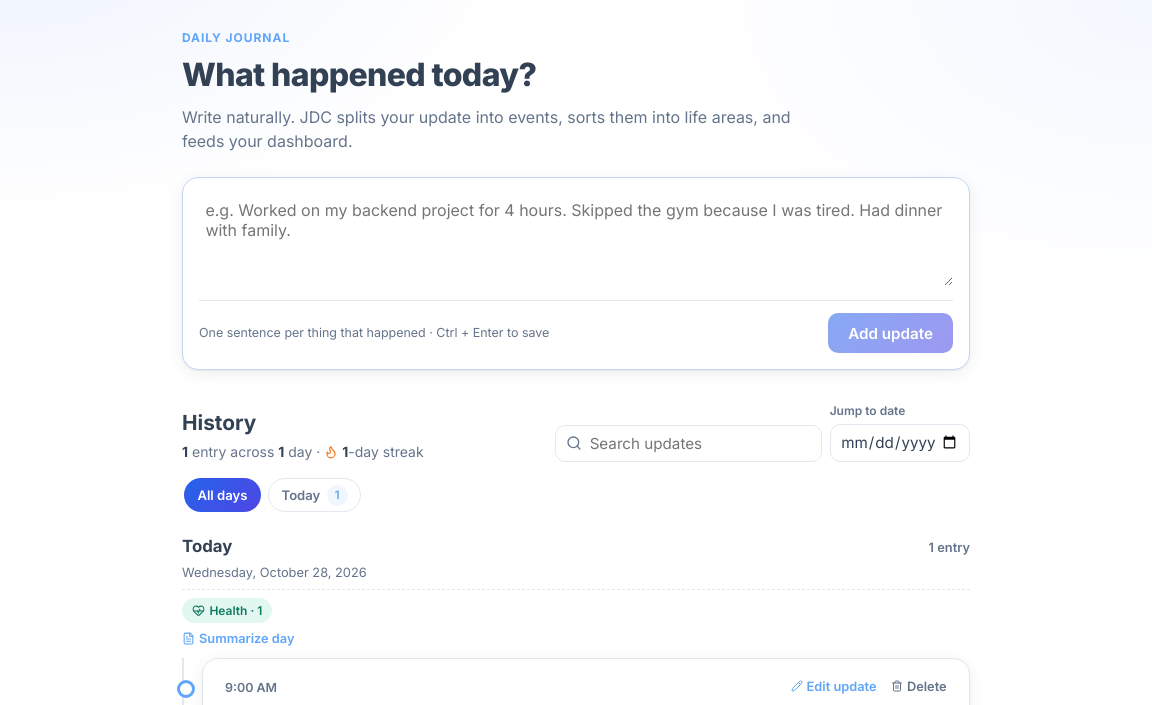
Editing updates › edits the whole update and shows the re-sorted statements
The width and height of the screenshot is (1152, 705).
Click the button "Edit update" at (834,686), box [791,679,877,694]
(page scrolled)
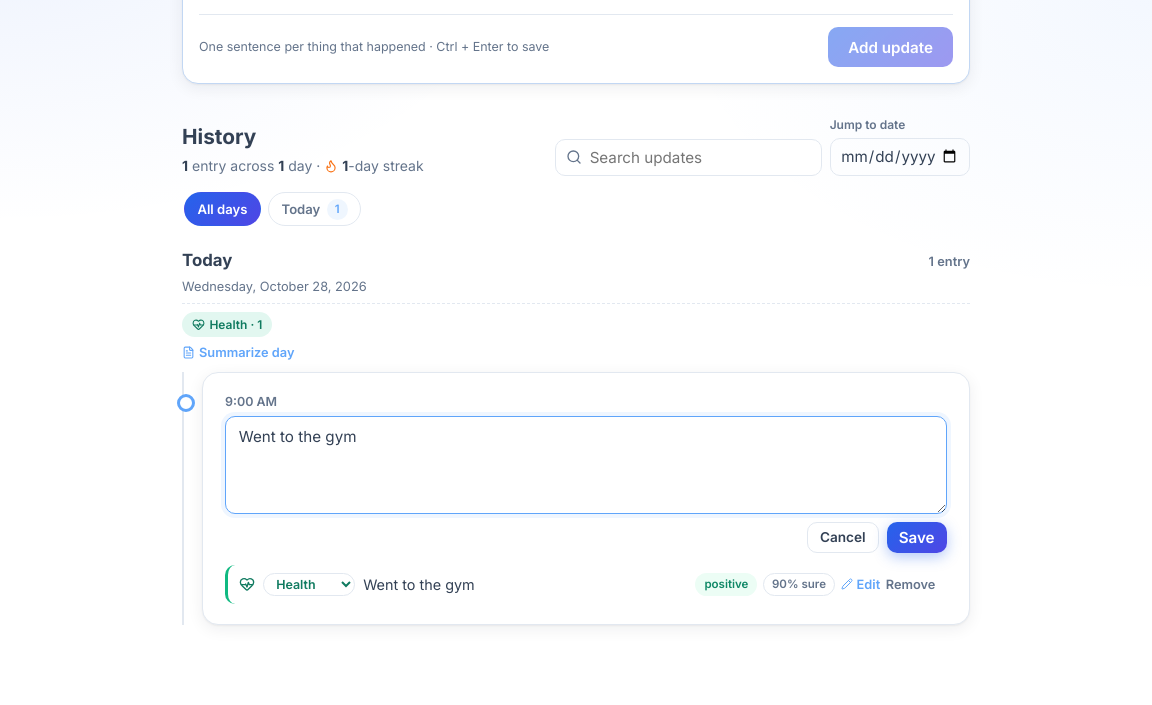
Replace the text in the text box named "Edit update" with "studyed python" at (586,465), box [225,416,947,514]
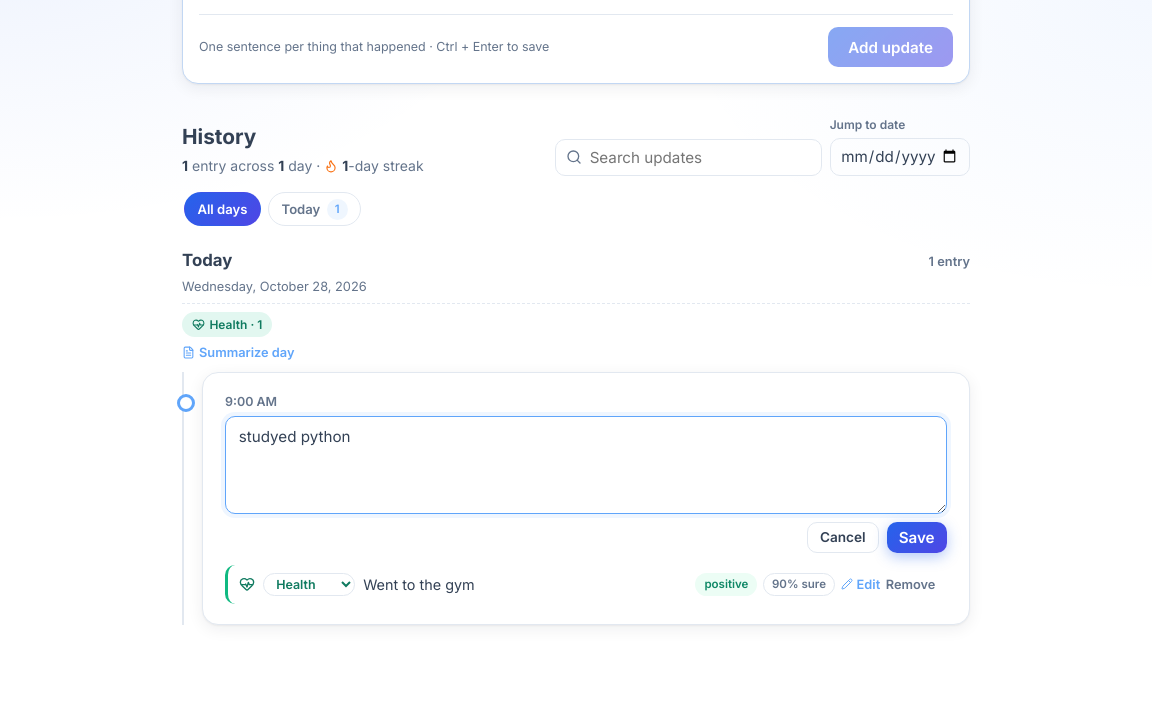
Click the button "Save" at (917,537), box [887,522,947,552]
(page scrolled)
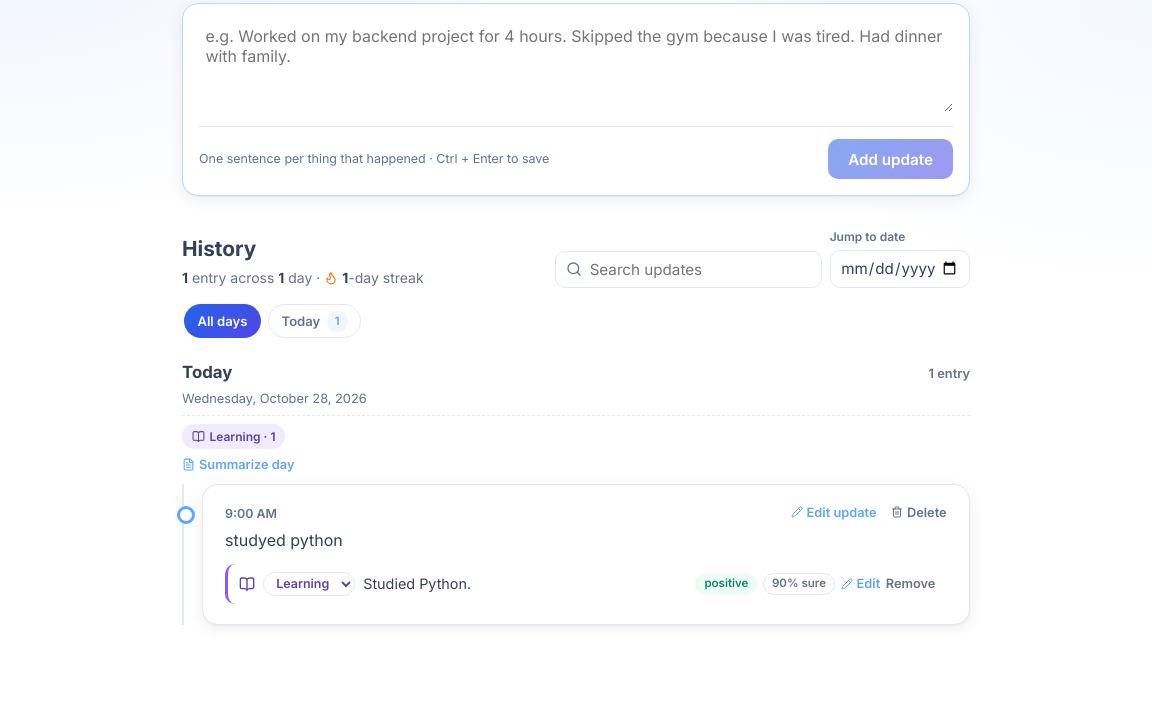
Check: the text "studyed python" is shown, box [225,530,343,550]
Check: the text "Studied Python." is shown, box [363,573,471,595]
